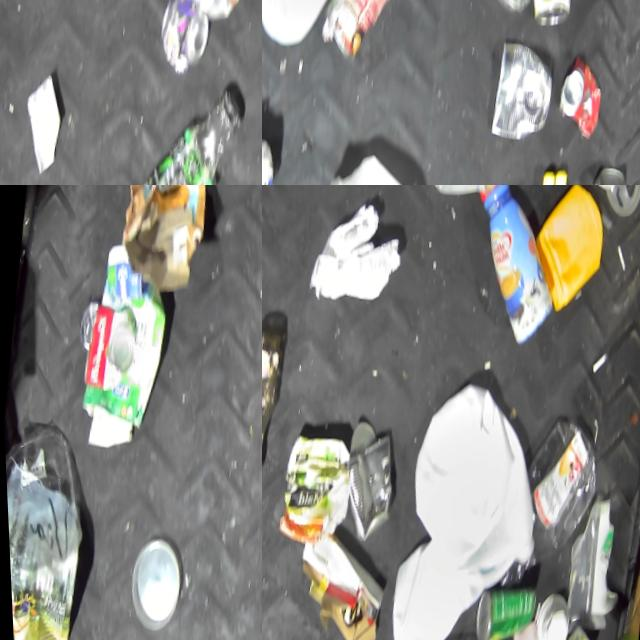can: (330, 419, 402, 552), (483, 42, 557, 153), (313, 0, 408, 72), (78, 302, 141, 399), (549, 60, 606, 152), (149, 0, 215, 78), (465, 586, 534, 640), (521, 0, 581, 40), (73, 298, 105, 358), (580, 170, 630, 185)
milk_jug: (391, 377, 552, 606), (376, 535, 486, 640), (262, 0, 362, 59)
plastic_bottle: (122, 76, 253, 185)
